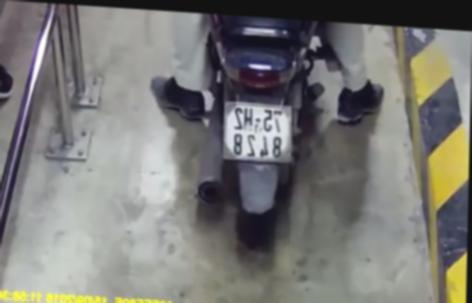License_Plate: (217, 97, 298, 171)
